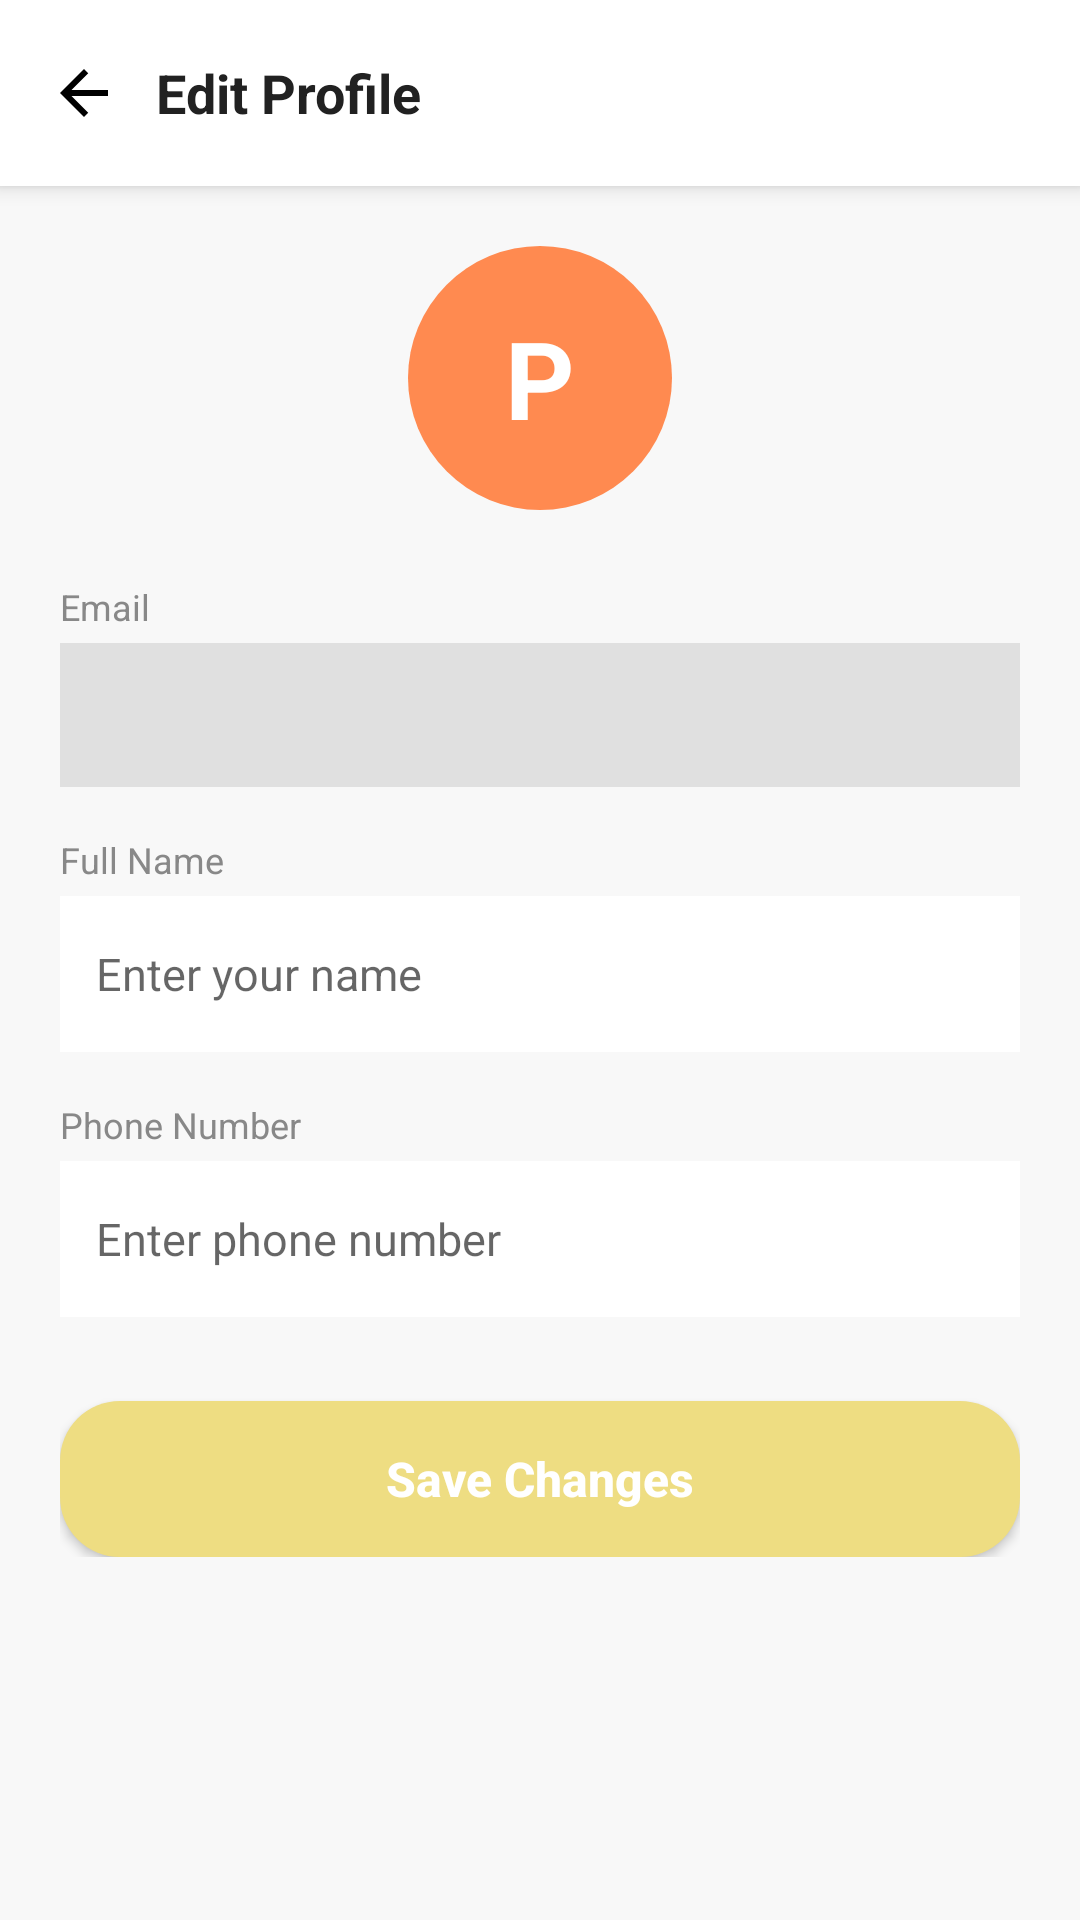

Icons on this 1080*1920 Android screen, each with the point to tap as [x,y]:
back: [84,93]
